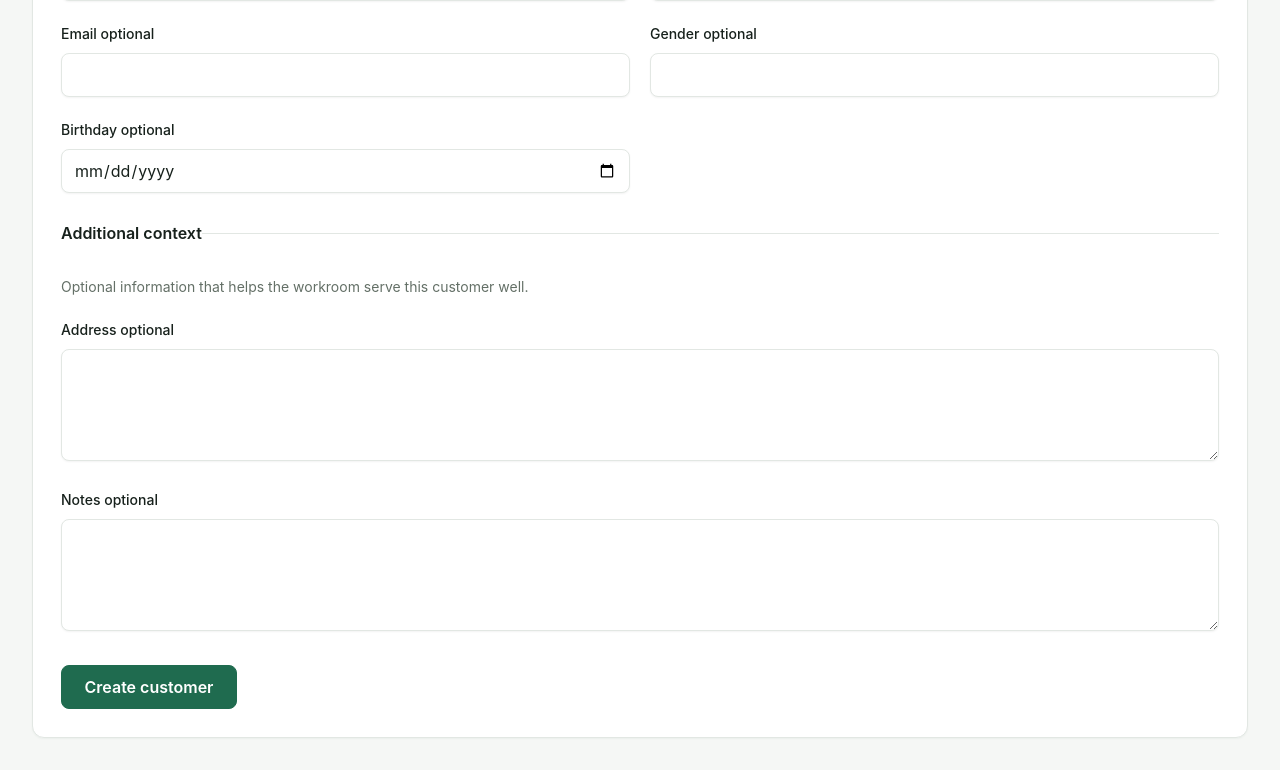
Test case: customer create form validates required fields
The image size is (1280, 770).
(page scrolled)
What coordinates should you click on to do the following:
click the button "Create customer"
I would click on:
 (149, 687)
Its box is 61,665 -> 237,709.
(page scrolled)
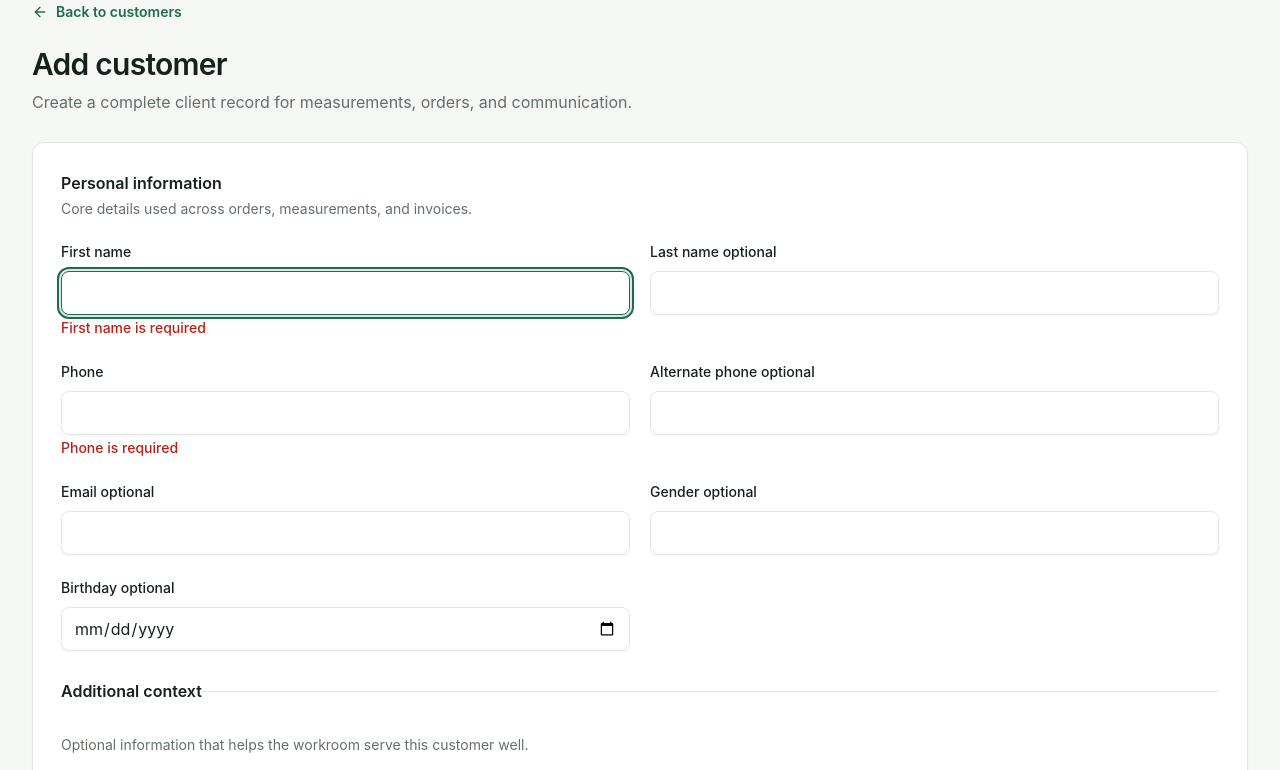
Expected: the text "First name is required" is shown, 61,319 -> 206,336
Expected: the text "Phone is required" is shown, 61,439 -> 178,456
